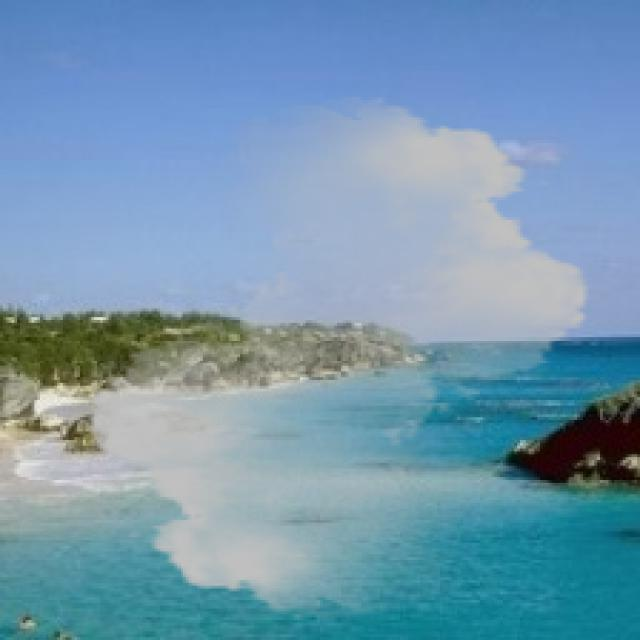smoke: (71, 97, 606, 620)
